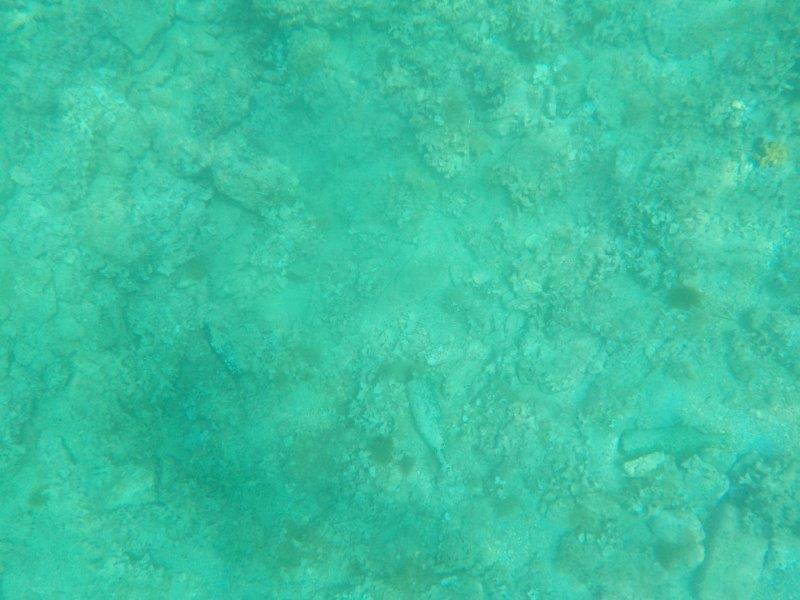bottle: (400, 375, 457, 472), (614, 424, 734, 461), (200, 321, 250, 379)
